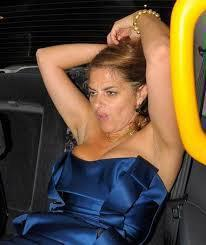Drunk: (88, 61, 135, 134)
